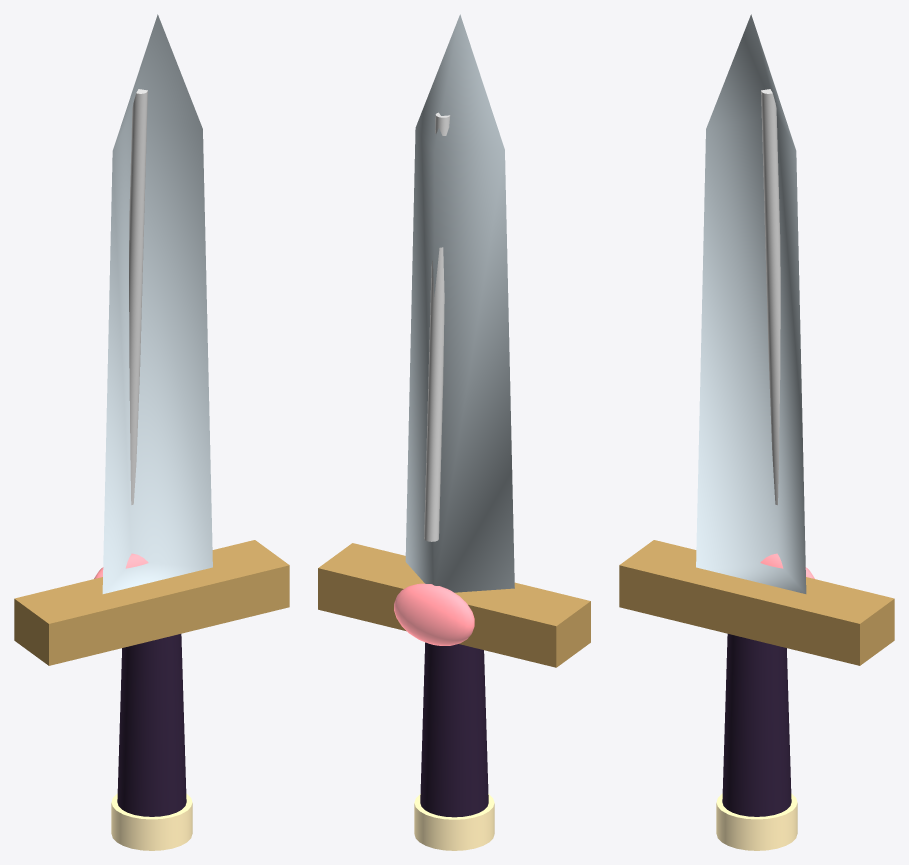
The model's file is sword.glb.
3 renders of one model, left to right at view 1: azimuth 30°, elevation 25°; view 2: azimuth 150°, elevation 25°; view 3: azimuth 330°, elevation 25°, orthographic.
Parts seen in each view (by area): view 1: FacetedBlade, Guard, Grip, BrightCenter, Pommel; view 2: FacetedBlade, Guard, Grip, BrightCenter, GuardRuby, Pommel; view 3: FacetedBlade, Guard, Grip, BrightCenter, Pommel.
Boxes of the visible parts, x1=… form: FacetedBlade: x1=102, y1=14, x2=212, y2=593; Guard: x1=14, y1=540, x2=289, y2=665; Grip: x1=117, y1=634, x2=186, y2=816; BrightCenter: x1=129, y1=89, x2=147, y2=504; Pommel: x1=111, y1=793, x2=192, y2=850; FacetedBlade: x1=405, y1=14, x2=514, y2=592; Guard: x1=318, y1=543, x2=590, y2=667; Grip: x1=420, y1=642, x2=488, y2=817; BrightCenter: x1=424, y1=112, x2=450, y2=541; GuardRuby: x1=394, y1=583, x2=474, y2=645; Pommel: x1=414, y1=794, x2=494, y2=850; FacetedBlade: x1=696, y1=14, x2=806, y2=593; Guard: x1=619, y1=540, x2=894, y2=665; Grip: x1=722, y1=634, x2=791, y2=816; BrightCenter: x1=761, y1=89, x2=780, y2=505; Pommel: x1=716, y1=793, x2=797, y2=850.
Bounding box in the file's own units: 0.048 × 0.157 × 0.017.
